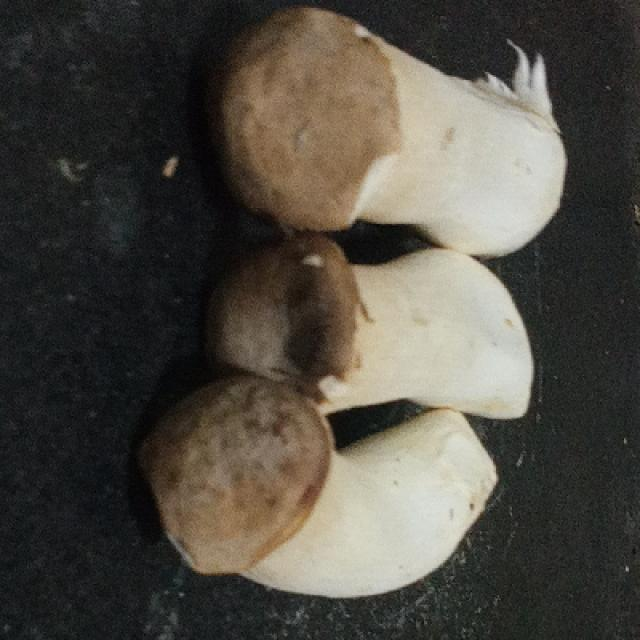Pleurotus eryngii: (216, 6, 566, 255), (144, 370, 500, 601), (226, 229, 535, 416)
